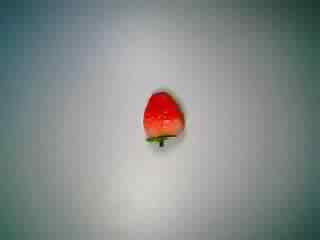strawberry: (131, 86, 193, 150)
